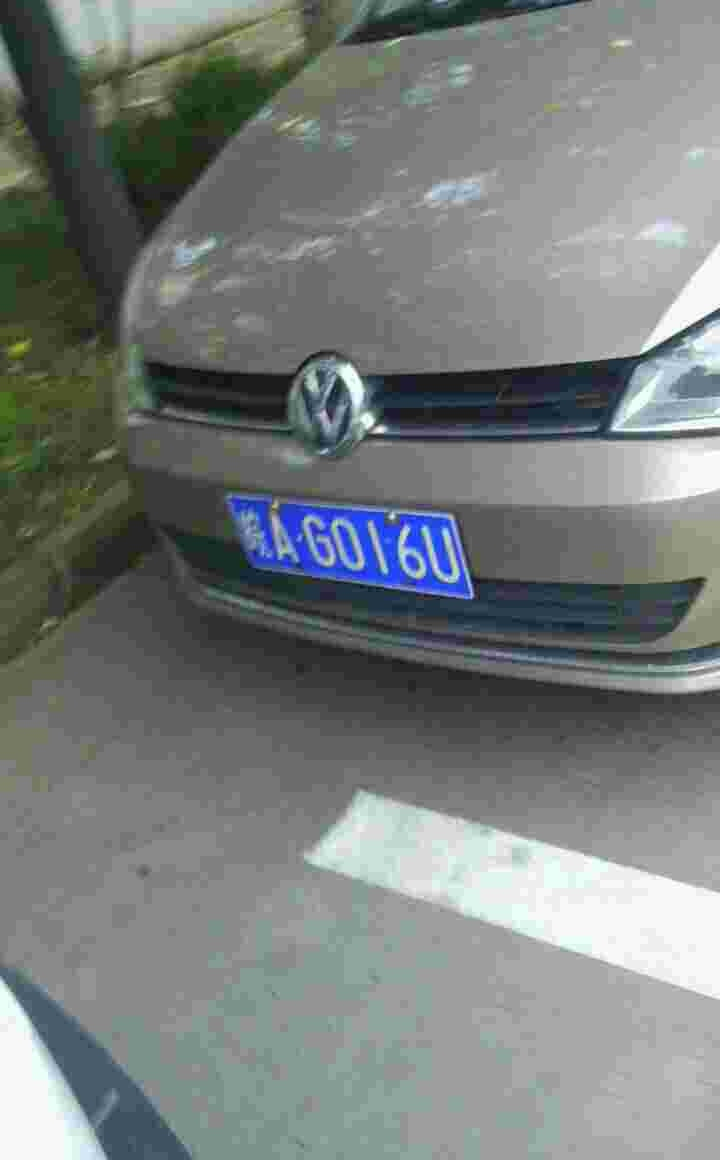license_plate: (238, 501, 476, 604)
